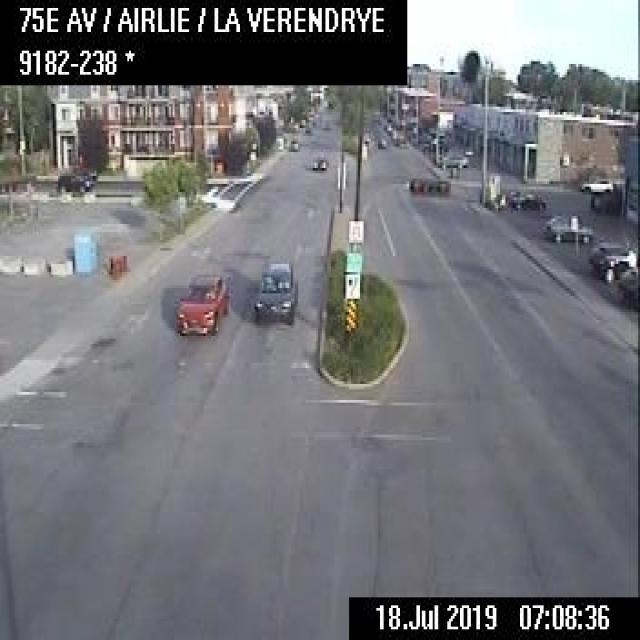construction: (120, 252, 126, 271), (108, 254, 113, 274), (114, 255, 118, 274)
vehicle: (174, 270, 230, 336), (251, 259, 297, 323), (588, 240, 638, 277), (544, 212, 594, 244), (506, 186, 550, 212), (56, 168, 94, 192), (580, 173, 613, 192), (438, 152, 468, 168), (310, 155, 327, 170), (376, 135, 387, 147), (289, 137, 300, 149)
